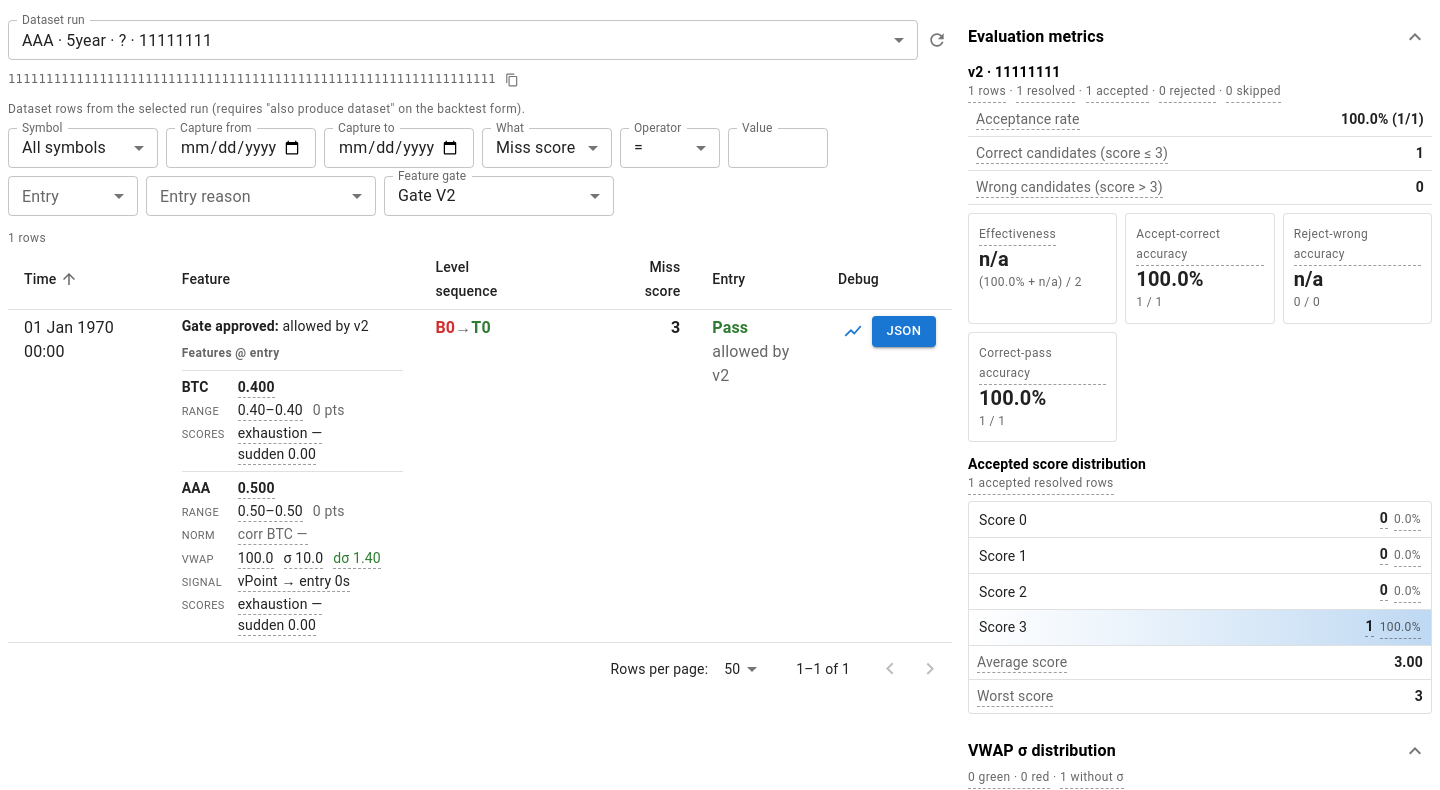
feature-gate dataset selection › filters locally and remembers filters without refetching the run
Expected: the text "Pass" is shown, [712, 318, 748, 337]
Type "2" into the number field labelled "Value".
click(778, 148); type("2")  # box [728, 128, 828, 168]
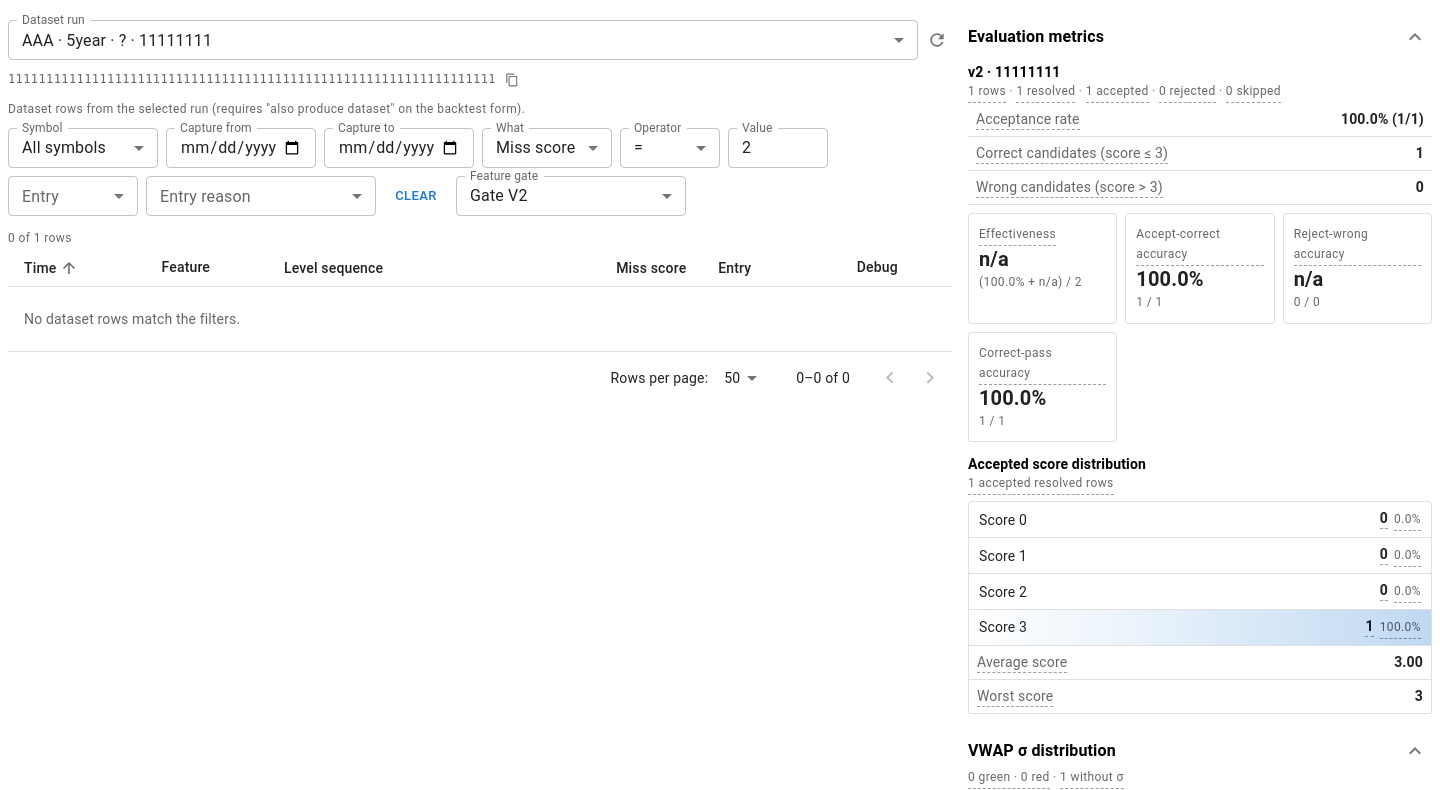
Result: the text "No dataset rows match the filters." is shown at [24, 311, 240, 327]
Click the button "Clear".
click(416, 196)  # box [384, 180, 448, 211]
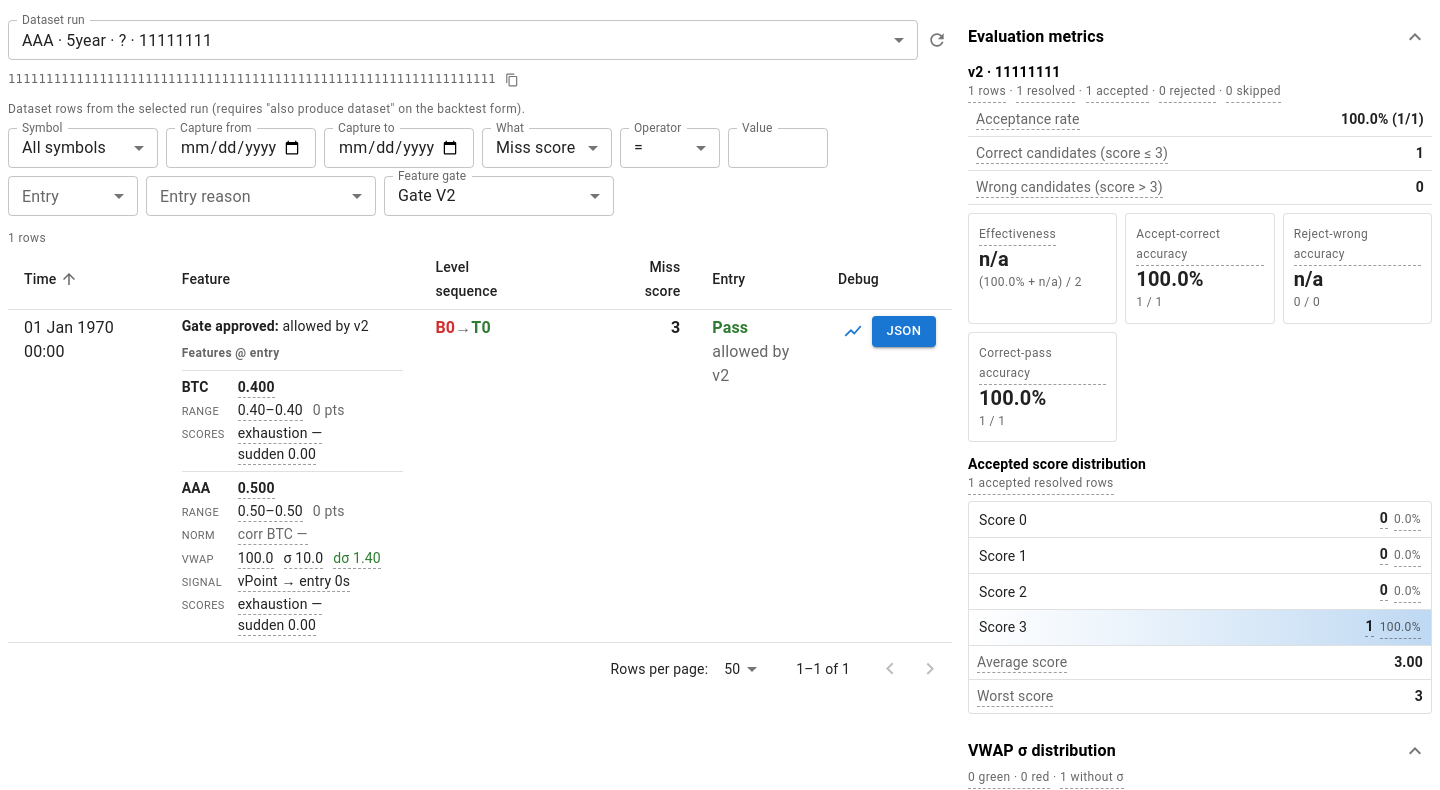
Result: the text "No dataset rows match" is gone
